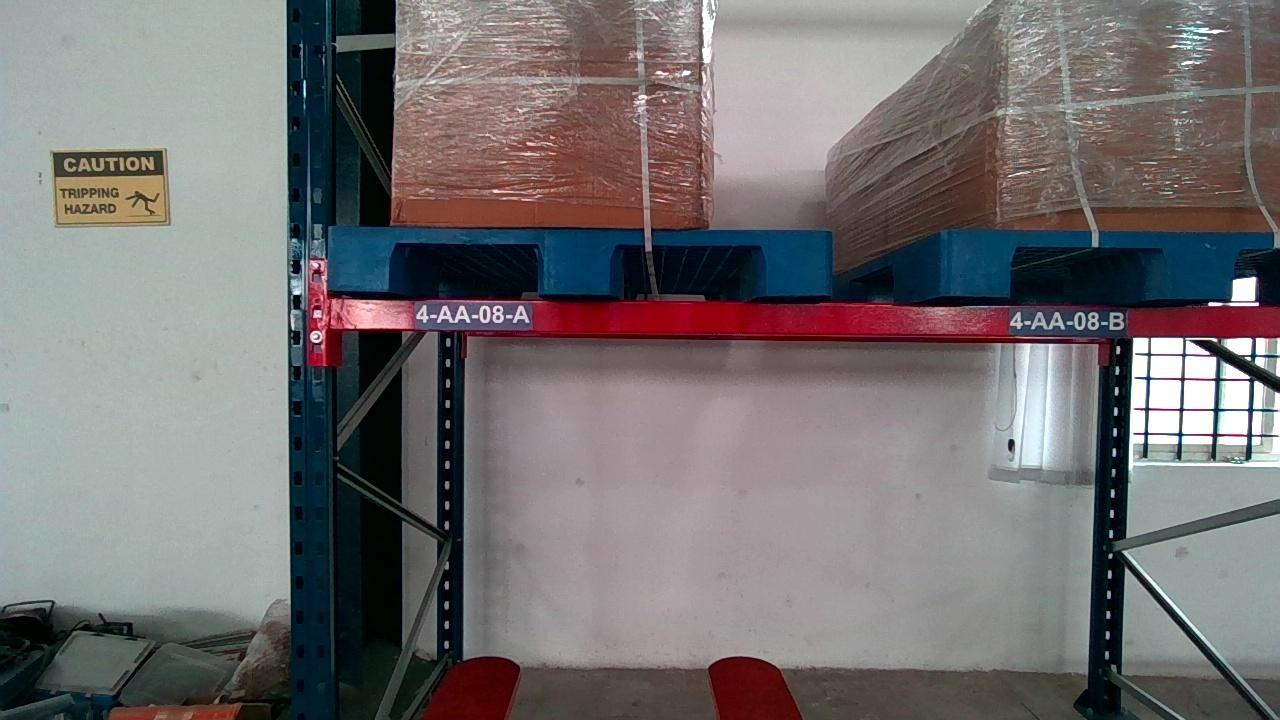h_rack: (318, 296, 1280, 335)
small_pallet: (323, 225, 833, 296), (936, 231, 1280, 309)
